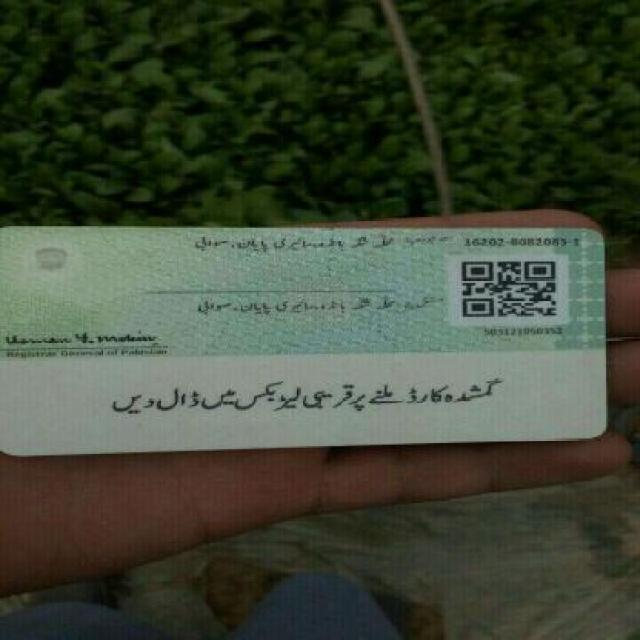Back: (3, 217, 620, 458)
